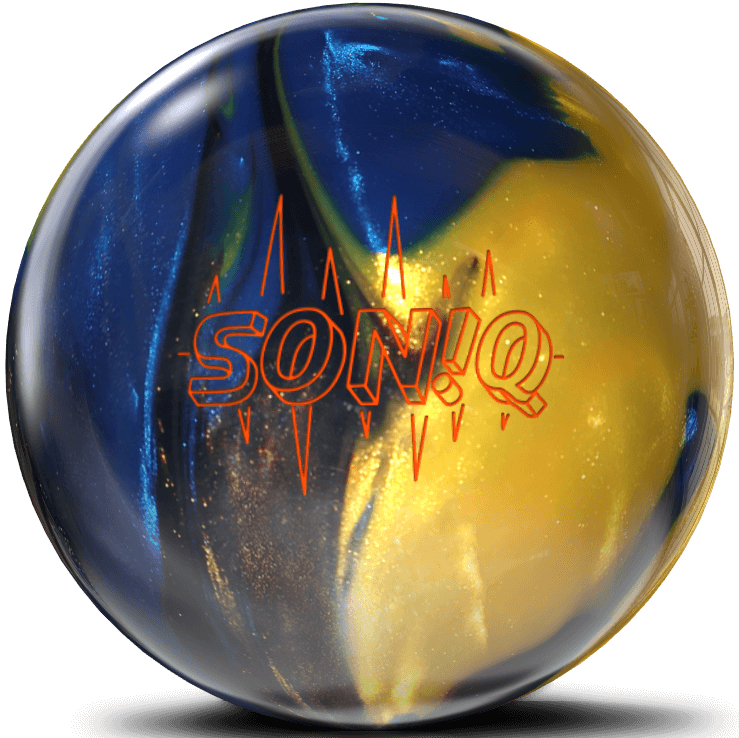Nonrec_Plastic: (18, 16, 708, 705)
